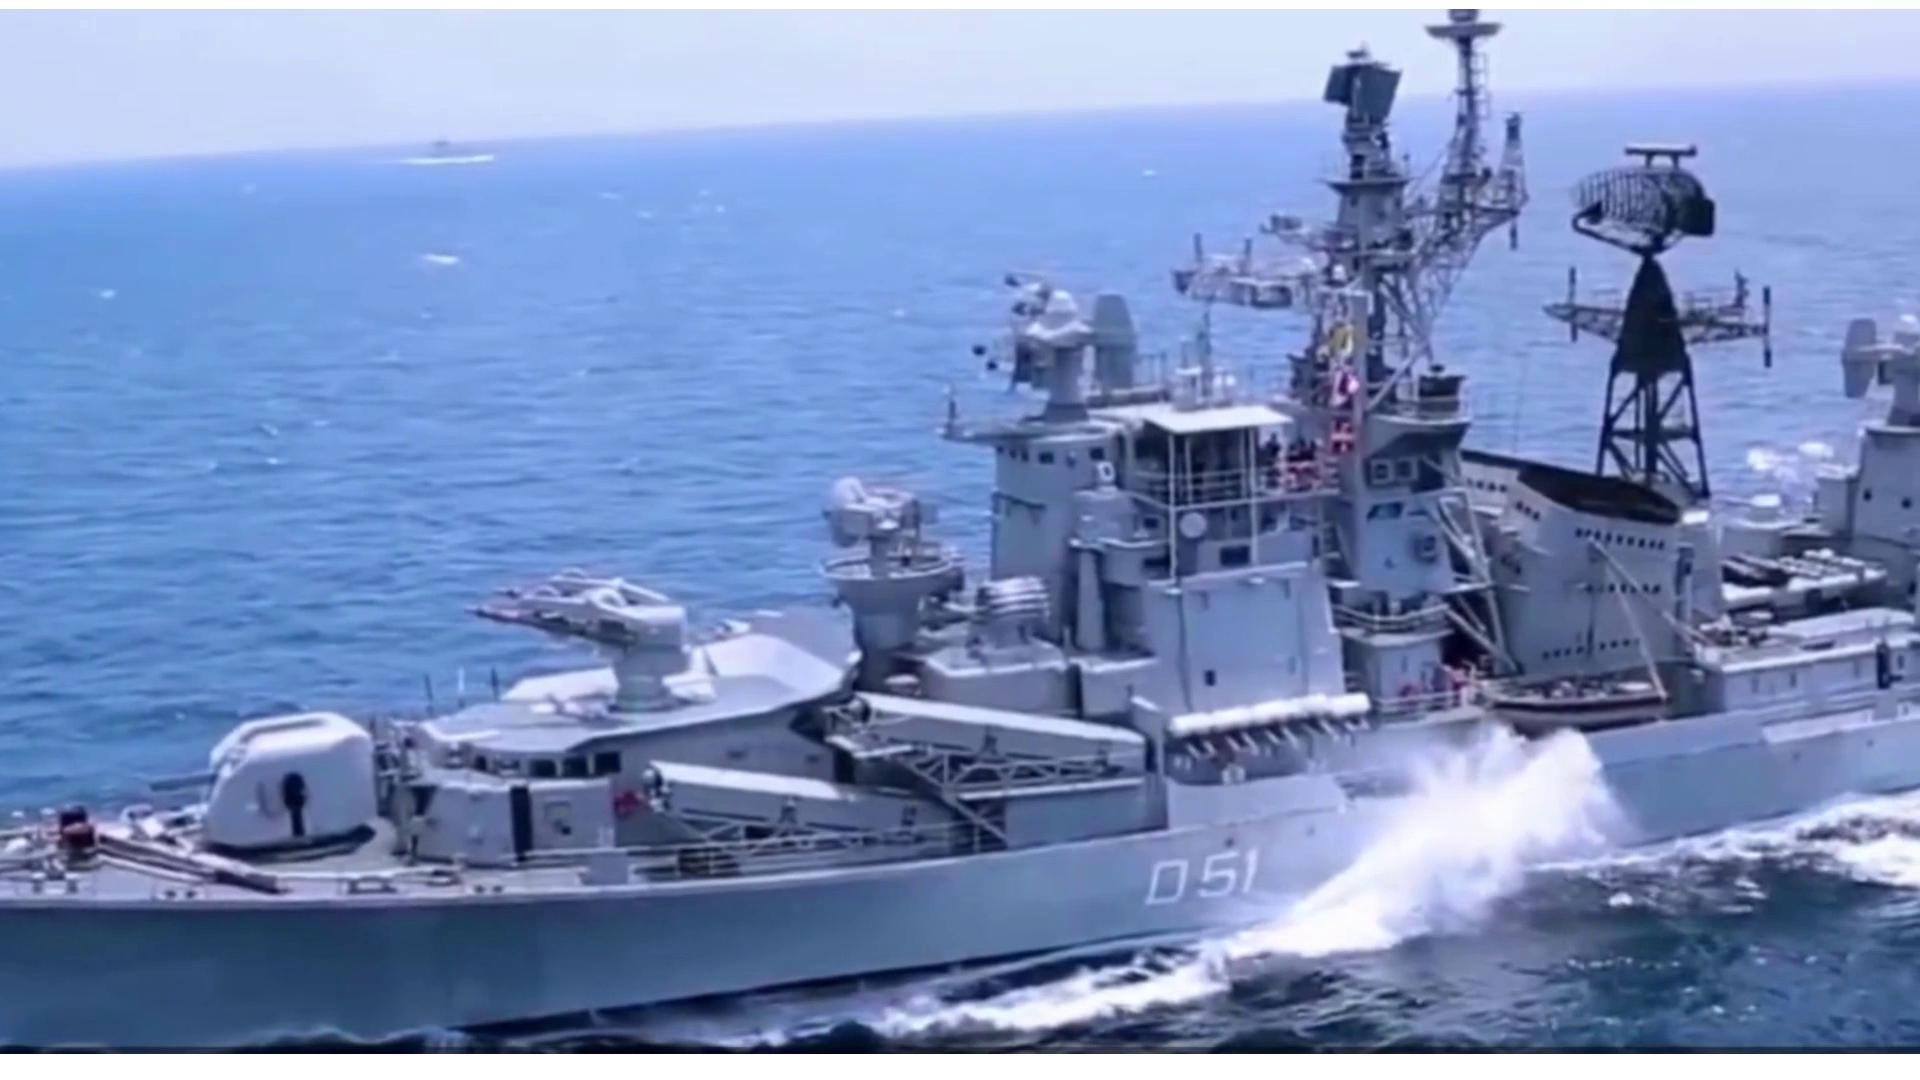OCR: (1129, 837, 1269, 924)
